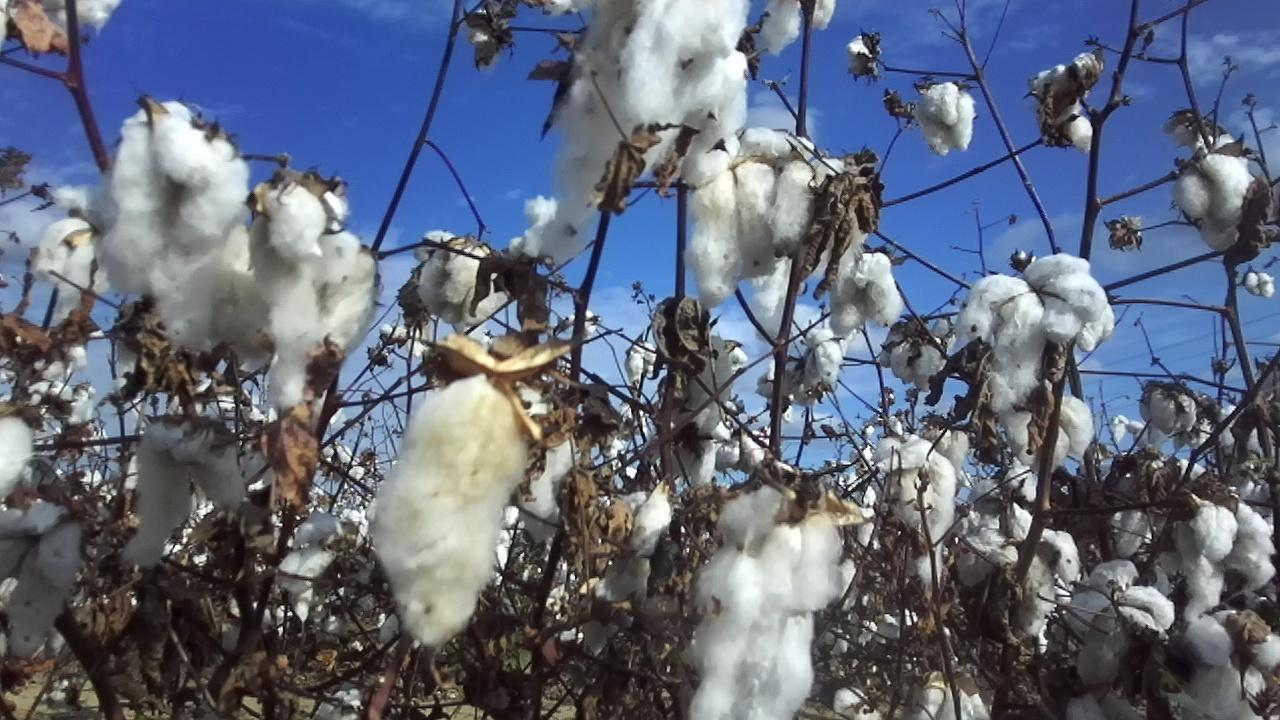cotton_ready: (543, 0, 750, 262), (368, 374, 535, 644), (91, 97, 254, 349), (686, 487, 840, 720), (958, 250, 1117, 414), (674, 130, 817, 303), (256, 185, 362, 414), (127, 419, 245, 567), (1160, 502, 1279, 620), (0, 502, 87, 662), (954, 530, 1080, 639), (1044, 557, 1175, 658), (777, 155, 870, 291), (1179, 607, 1280, 720), (1181, 130, 1259, 255), (413, 229, 504, 331), (519, 384, 577, 537), (597, 489, 674, 599), (305, 249, 380, 358), (881, 454, 959, 543), (1008, 395, 1094, 473), (1068, 640, 1144, 720), (34, 219, 108, 301), (830, 254, 905, 334), (1036, 64, 1095, 151), (972, 472, 1045, 541), (279, 512, 340, 593), (756, 0, 837, 54), (909, 670, 990, 720), (922, 84, 979, 155), (689, 335, 739, 409), (881, 332, 952, 382), (796, 330, 855, 390), (677, 404, 719, 486), (1108, 500, 1155, 565), (1137, 385, 1199, 434), (0, 415, 32, 499), (924, 417, 970, 473)
